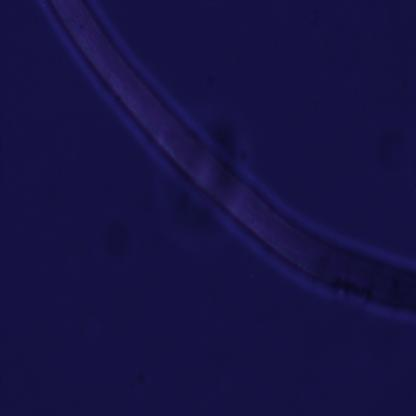Microfibre: (37, 0, 416, 320)
